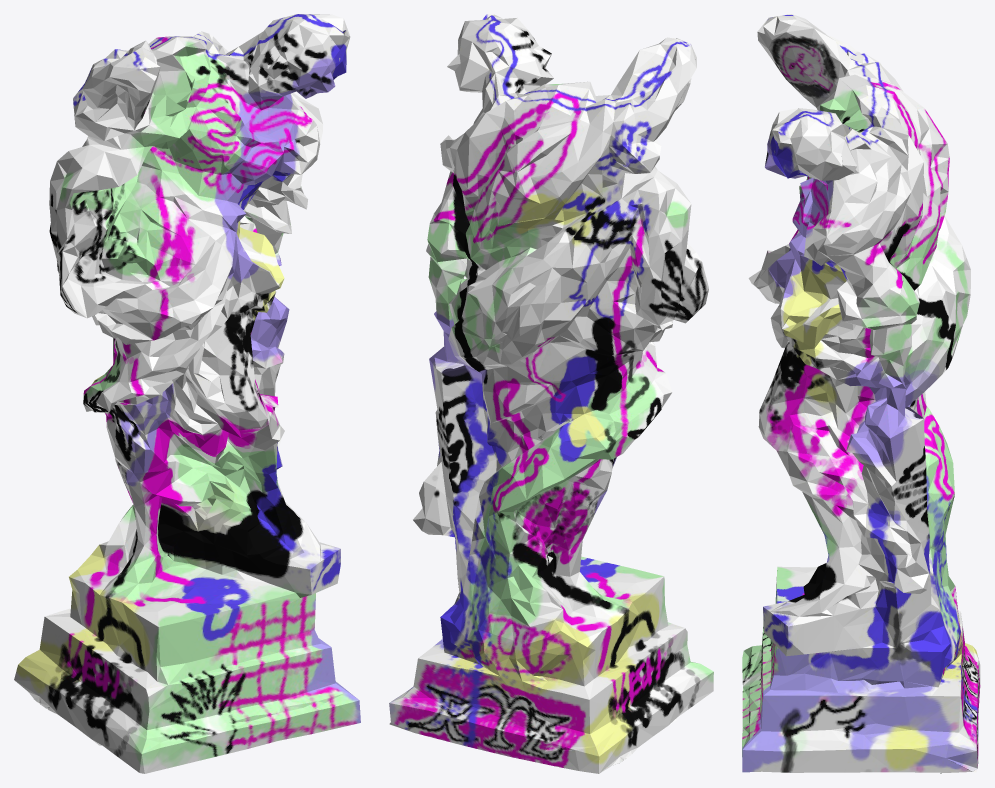
Rendered from moudrost.glb.
3 renders of one model, left to right at view 1: azimuth 30°, elevation 25°; view 2: azimuth 150°, elevation 25°; view 3: azimuth 270°, elevation 25°, orthographic. The views are drawn at different scales.
Parts seen in each view (by area): view 1: moudrost-exp0rt.001; view 2: moudrost-exp0rt.001; view 3: moudrost-exp0rt.001.
Part boxes in pixels (x1=…): moudrost-exp0rt.001: x1=14, y1=14, x2=360, y2=773; moudrost-exp0rt.001: x1=389, y1=14, x2=713, y2=773; moudrost-exp0rt.001: x1=742, y1=14, x2=980, y2=773.
Bounding box in the file's own units: 1.21 × 2.96 × 0.9641.
Materials: 1 (1 with a texture image).
